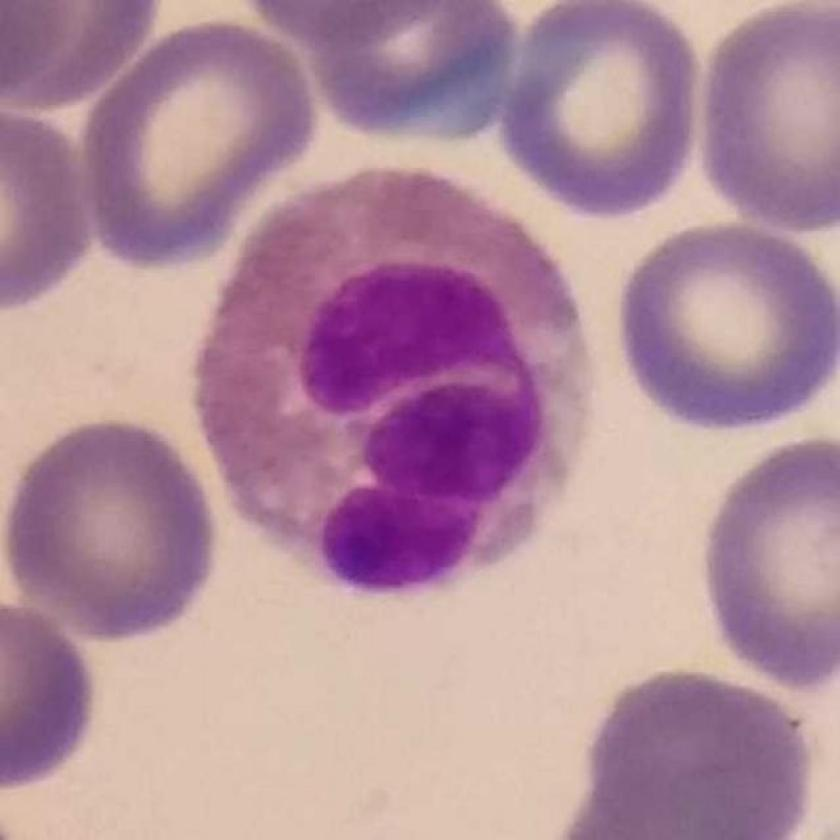eosinophil: (192, 157, 604, 594)
